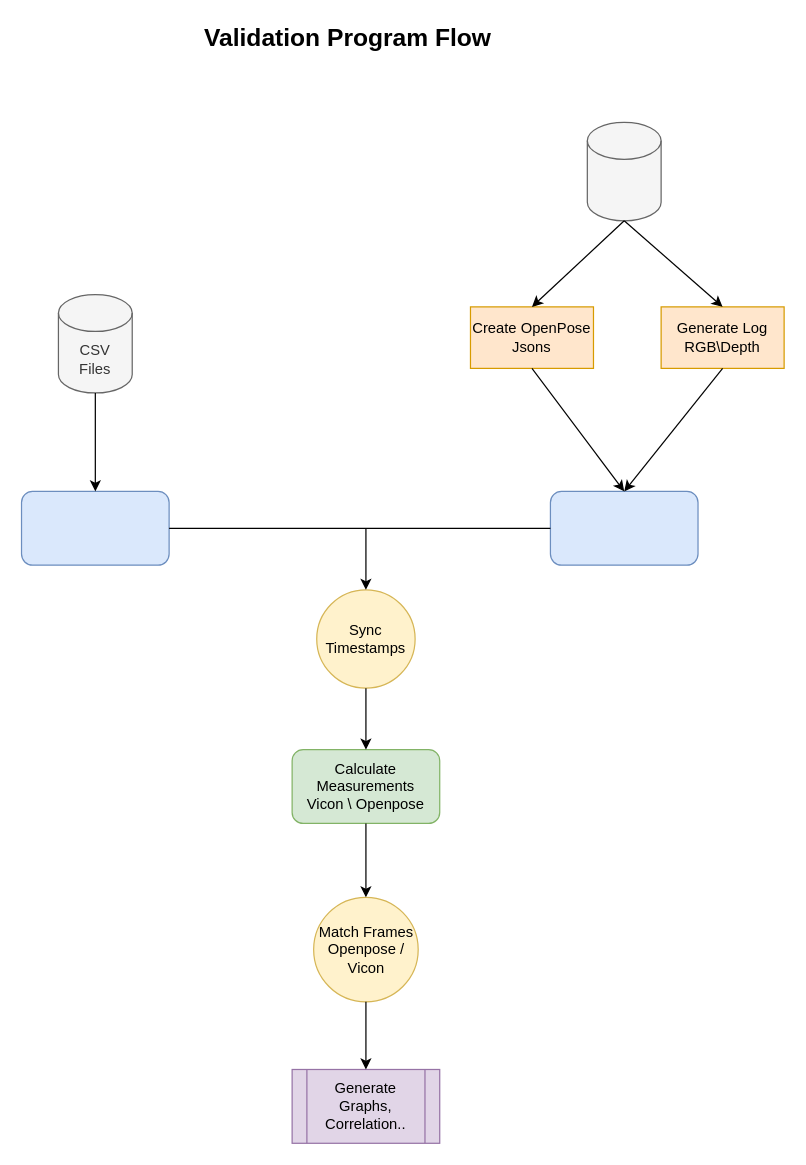
Image size: 806x1165. Some labels were removed from this diagram. Each missing label, with the centre of its shape:
"Bag Files" belongs at point 623,171.
"Create OpenPose Skeletons" belongs at point 623,527.
"Create Vicon Skeletons" belongs at point 94,527.
